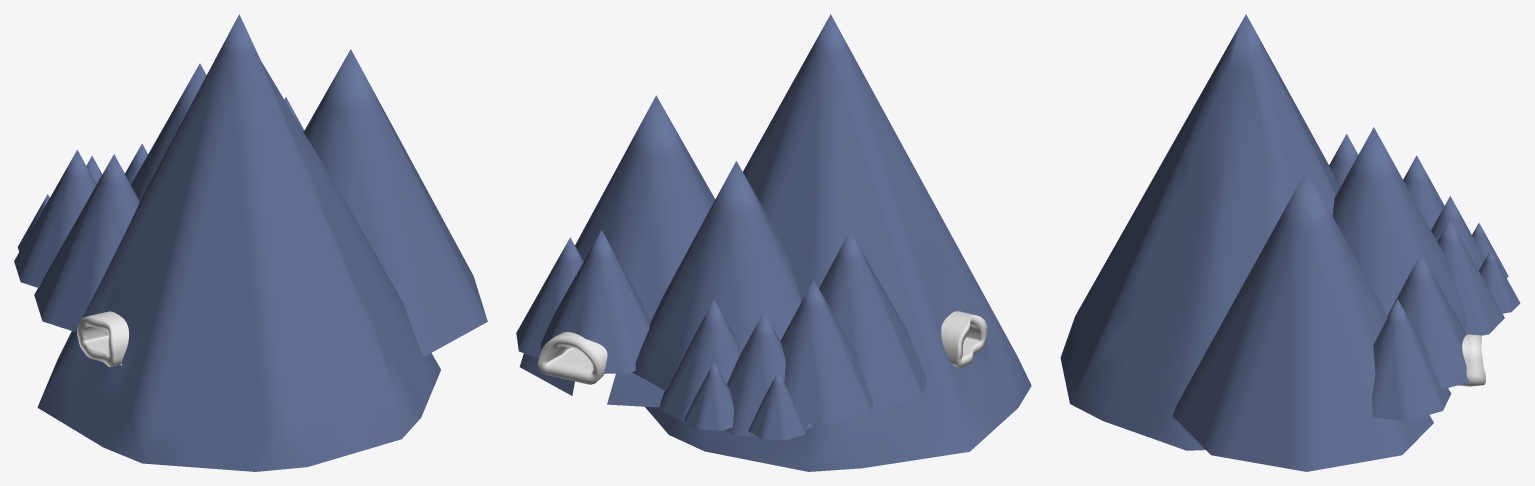
The model's file is Tunnel_fixed.fbx.
The picture shows the model from 3 angles, left to right: view 1: azimuth 30°, elevation 25°; view 2: azimuth 150°, elevation 25°; view 3: azimuth 270°, elevation 25°; orthographic projection. The views are drawn at different scales.
Visible parts, largest first — view 1: Cone.045, Cone.043, Cone.041, Cone.047, Cube.015, Cone.046; view 2: Cone.045, Cone.046, Cone.043, Cone.041, Cone.047, Cone.053, Cube.015, Cone.049, Cone.042, Cone.054, Cone.048, Cone.050; view 3: Cone.045, Cone.043, Cone.046, Cone.054, Cone.053, Cone.049, Cone.047, Cone.050, Cone.042, Cube.015, Cone.041.
Boxes of the visible parts, x1,y1,x2,y2 form: Cone.045: (37, 14, 440, 471); Cone.043: (303, 49, 487, 356); Cone.041: (34, 154, 139, 331); Cone.047: (14, 150, 96, 287); Cube.015: (77, 311, 128, 367); Cone.046: (131, 63, 206, 200); Cone.045: (645, 14, 1031, 471); Cone.046: (632, 161, 801, 390); Cone.043: (519, 95, 715, 407); Cone.041: (819, 230, 926, 413); Cone.047: (781, 280, 873, 424); Cone.053: (540, 230, 650, 373); Cube.015: (538, 311, 987, 384); Cone.049: (659, 299, 740, 423); Cone.042: (725, 311, 813, 436); Cone.054: (516, 237, 583, 358); Cone.048: (748, 372, 807, 440); Cone.050: (684, 362, 733, 430); Cone.045: (1060, 14, 1340, 450); Cone.043: (1172, 170, 1433, 471); Cone.046: (1332, 127, 1467, 330); Cone.054: (1372, 299, 1451, 420); Cone.053: (1387, 253, 1469, 389); Cone.049: (1437, 219, 1504, 335); Cone.047: (1403, 155, 1444, 229); Cone.050: (1479, 249, 1520, 313); Cone.042: (1431, 196, 1484, 270); Cube.015: (1457, 334, 1485, 386); Cone.041: (1329, 134, 1358, 186).
Size of the model in its own units: 53715 by 44025 by 51363.
